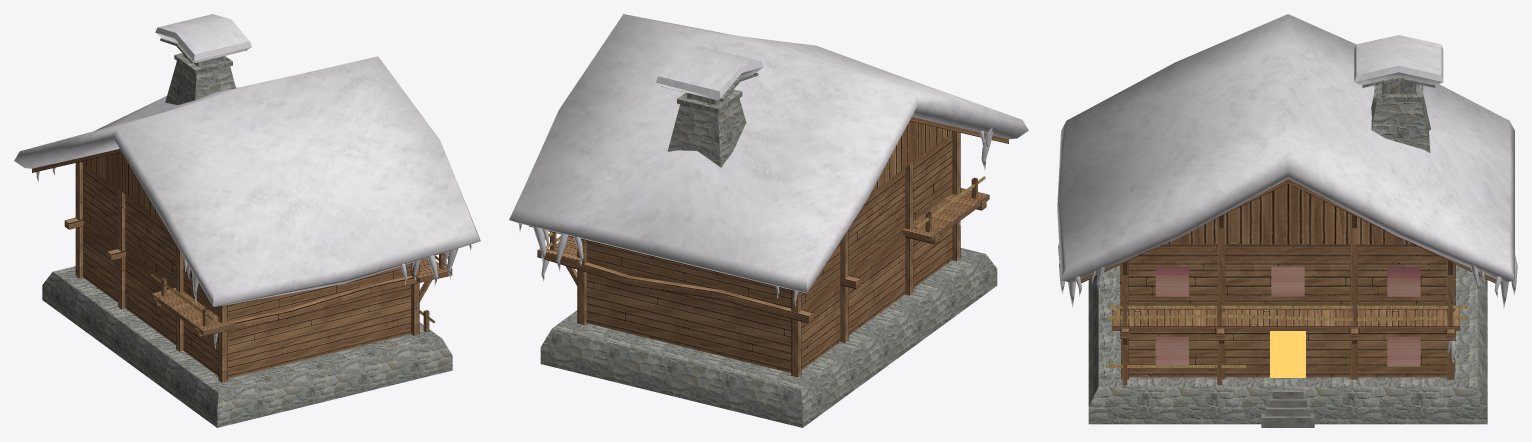
File: chalet.glb
The picture shows the model from 3 angles, left to right: view 1: azimuth 30°, elevation 25°; view 2: azimuth 150°, elevation 25°; view 3: azimuth 270°, elevation 25°; orthographic projection. The views are drawn at different scales.
Visible parts, largest first — view 1: stk_generic_snow_a.png__, stktex_generic_WoodA.png__, stk_generic_wallRock_a.png__; view 2: stk_generic_snow_a.png__, stktex_generic_WoodA.png__, stk_generic_wallRock_a.png__; view 3: stk_generic_snow_a.png__, stktex_generic_WoodA.png__, stk_generic_wallRock_a.png__, stkflag_asianPaperLantern_a.png__, stktex_generic_WoodB.png__, ___, stktex_generic_concreteA.png__.
Boxes of the visible parts, x1,y1,x2,y2 form: stk_generic_snow_a.png__: (14, 14, 480, 348); stktex_generic_WoodA.png__: (32, 148, 452, 382); stk_generic_wallRock_a.png__: (42, 38, 452, 427); stk_generic_snow_a.png__: (509, 14, 1028, 305); stktex_generic_WoodA.png__: (529, 117, 1008, 377); stk_generic_wallRock_a.png__: (540, 73, 997, 427); stk_generic_snow_a.png__: (1057, 14, 1517, 362); stktex_generic_WoodA.png__: (1080, 179, 1495, 385); stk_generic_wallRock_a.png__: (1088, 77, 1487, 424); stkflag_asianPaperLantern_a.png__: (1155, 266, 1420, 366); stktex_generic_WoodB.png__: (1105, 305, 1467, 367); ___: (1270, 331, 1305, 377); stktex_generic_concreteA.png__: (1261, 390, 1314, 427).
Size of the model in its own units: 9.69 by 8.96 by 11.93.
Materials: 7 (6 with a texture image).
